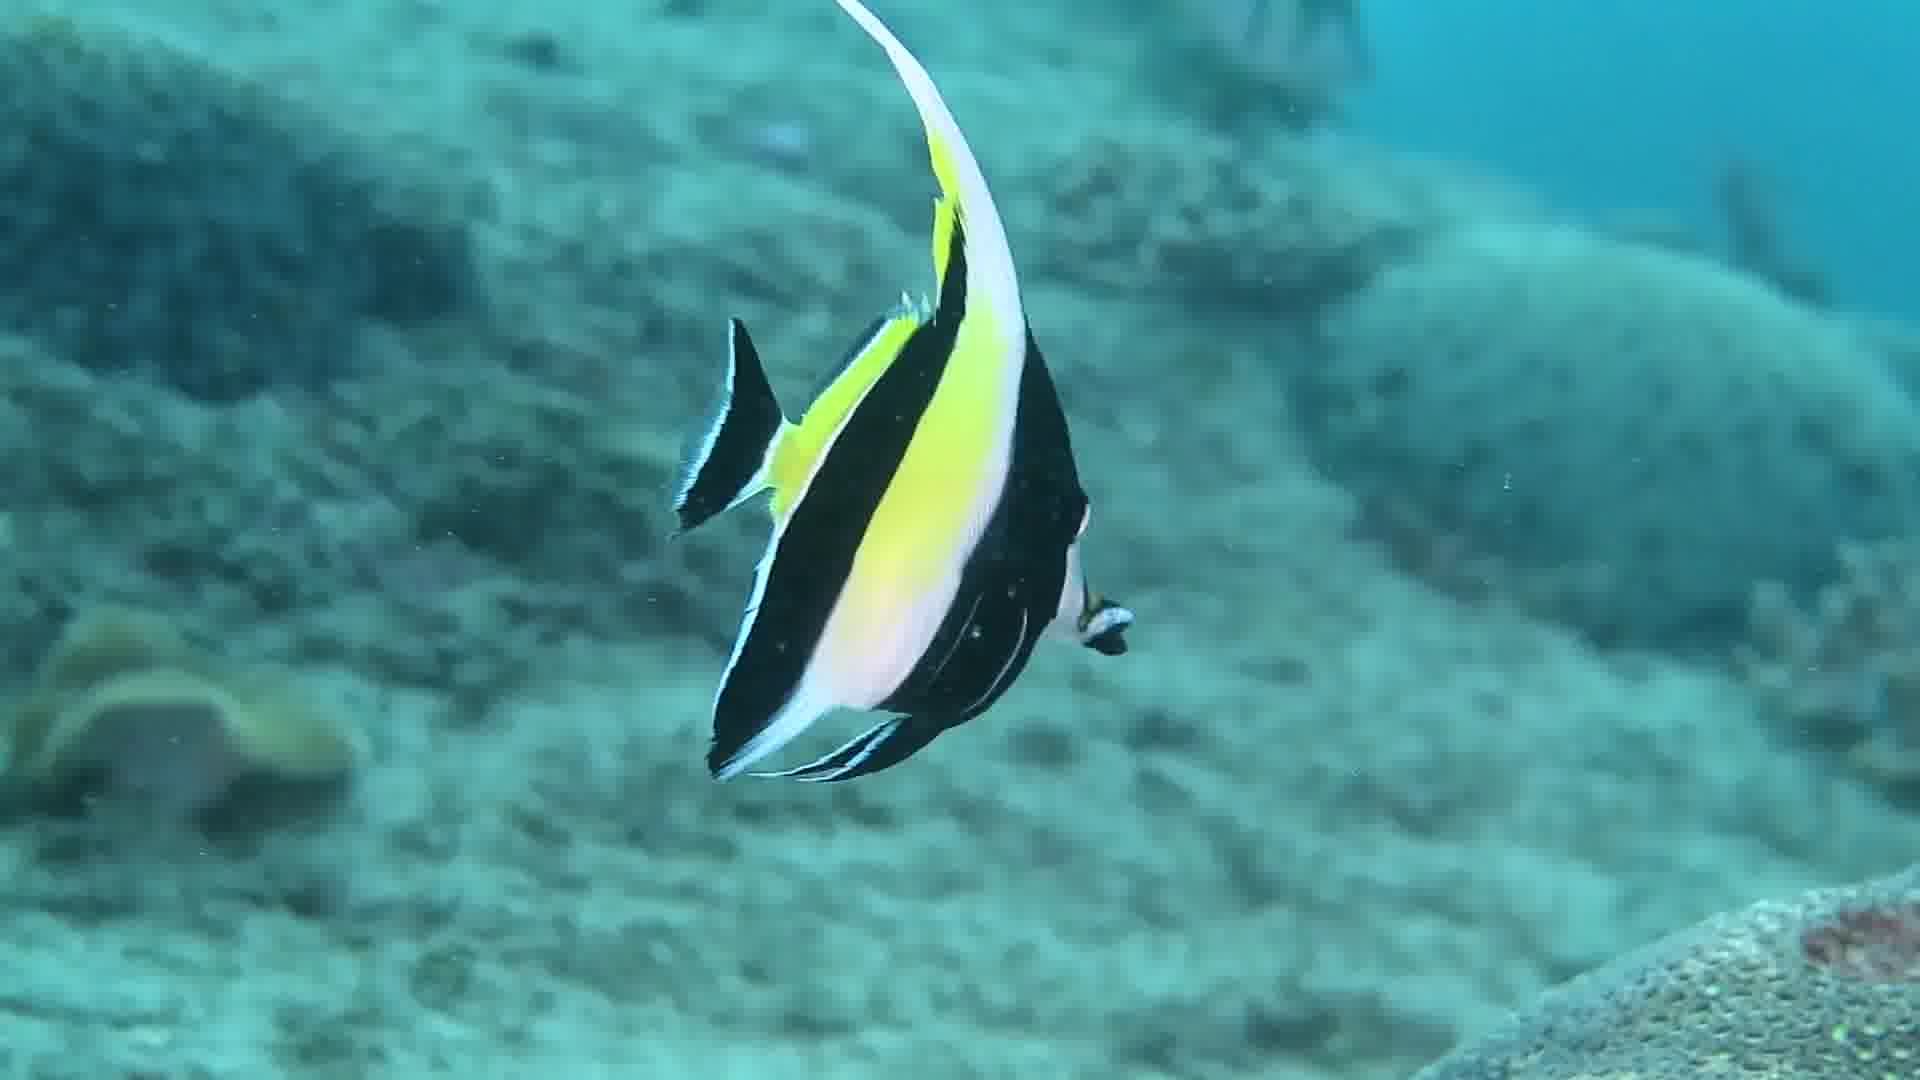Zanclus cornutus: (647, 1, 1182, 876)
